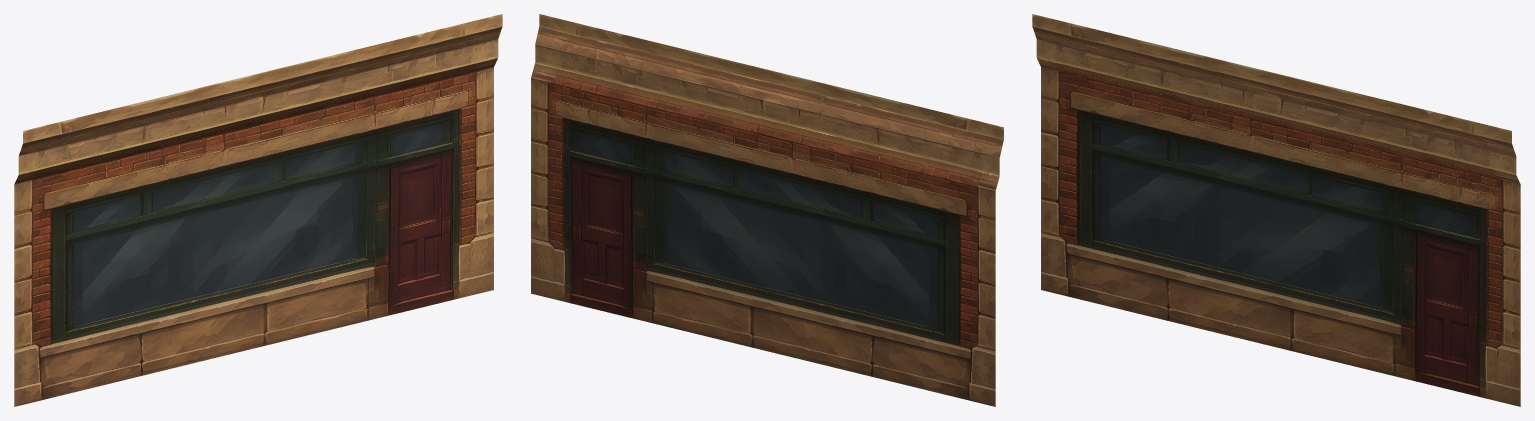
Rendered from BRK_G_Bay8A.fbx.
The picture shows the model from 3 angles, left to right: view 1: azimuth 30°, elevation 25°; view 2: azimuth 150°, elevation 25°; view 3: azimuth 330°, elevation 25°; orthographic projection. The views are drawn at different scales.
Parts seen in each view (by area): view 1: BRK_G_Bay8A; view 2: BRK_G_Bay8A; view 3: BRK_G_Bay8A.
Part boxes in pixels (bbox=[...]): BRK_G_Bay8A: bbox=[14, 14, 502, 406]; BRK_G_Bay8A: bbox=[531, 14, 1003, 406]; BRK_G_Bay8A: bbox=[1032, 14, 1520, 406].
Size of the model in its own units: 8 by 0.25 by 4.5.
Materials: 1 (1 with a texture image).
